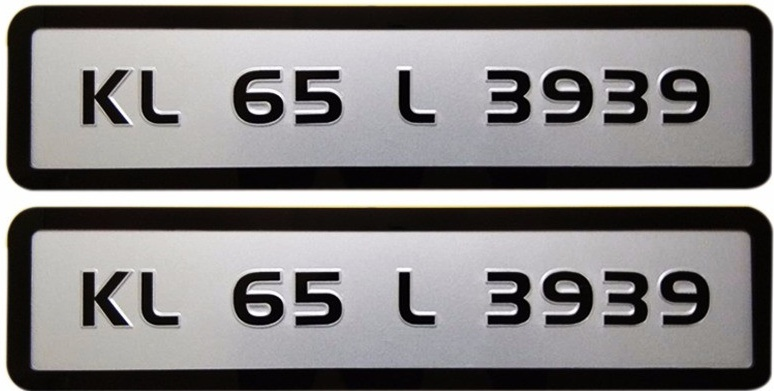character: (536, 65, 596, 128), (78, 65, 134, 128), (79, 267, 134, 331), (230, 65, 287, 126), (228, 265, 284, 327), (540, 265, 595, 328), (656, 63, 710, 126), (291, 265, 344, 327), (656, 266, 709, 328), (291, 65, 345, 124), (482, 63, 532, 124), (600, 65, 651, 124), (484, 265, 531, 328), (600, 266, 649, 326), (393, 65, 440, 126), (138, 266, 182, 330), (395, 265, 439, 326), (138, 65, 183, 124)
